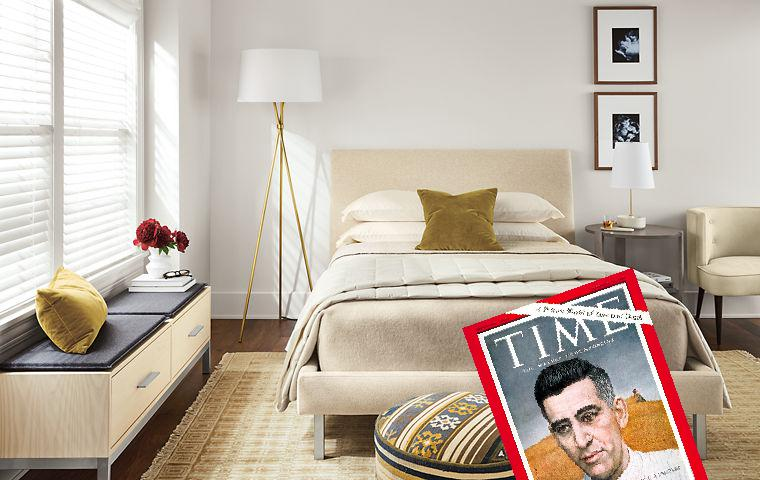times: (461, 264, 706, 480)
